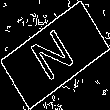N_SE: (27, 23, 83, 87)
